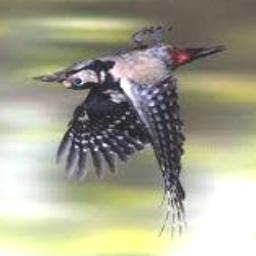Woodpecker: (33, 28, 227, 242)
